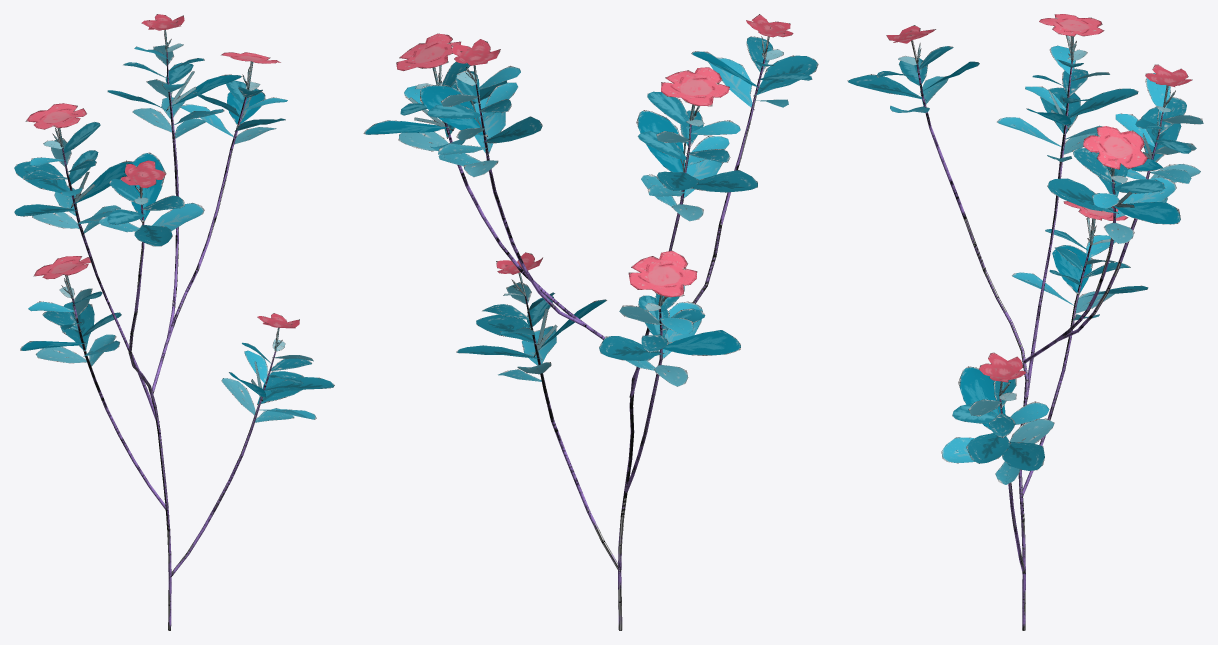
Rendered from flower.glb.
3 renders of one model, left to right at view 1: azimuth 30°, elevation 25°; view 2: azimuth 150°, elevation 25°; view 3: azimuth 270°, elevation 25°, orthographic. The views are drawn at different scales.
Visible parts, largest first — view 1: periwinkle_plant_02_LOD2; view 2: periwinkle_plant_02_LOD2; view 3: periwinkle_plant_02_LOD2.
Part boxes in pixels (<box>): periwinkle_plant_02_LOD2: <box>14,14,334,630</box>; periwinkle_plant_02_LOD2: <box>363,14,818,630</box>; periwinkle_plant_02_LOD2: <box>847,14,1203,630</box>.
Bounding box in the file's own units: 0.2311 × 0.4104 × 0.2248.
1 material, 1 textured.
